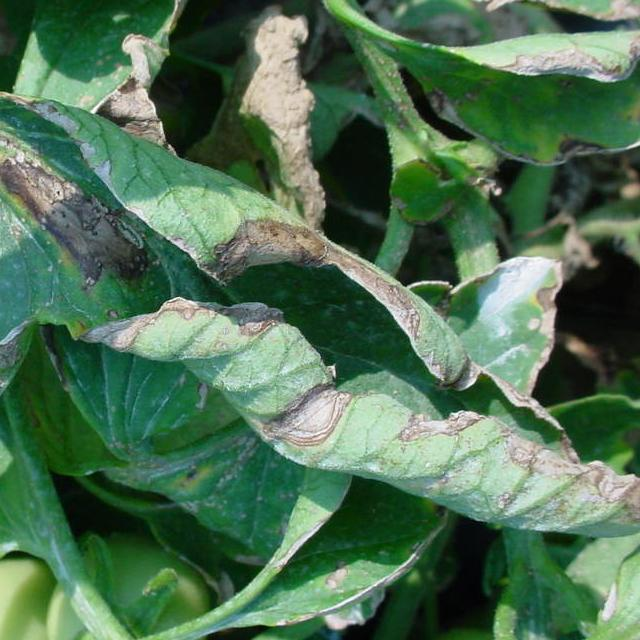Tomato leaf bacterial spot: (0, 0, 640, 582)
